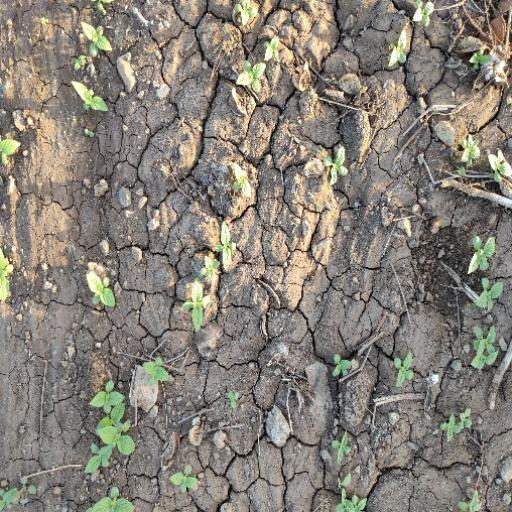crop: (459, 232, 506, 369), (78, 382, 141, 475), (178, 234, 234, 326), (63, 22, 114, 72), (78, 264, 123, 313), (379, 26, 416, 70), (66, 82, 114, 114), (434, 405, 475, 442), (386, 351, 419, 391), (230, 58, 269, 91), (323, 142, 352, 185), (328, 354, 359, 384), (453, 141, 486, 167)
weed: (448, 4, 512, 75)
